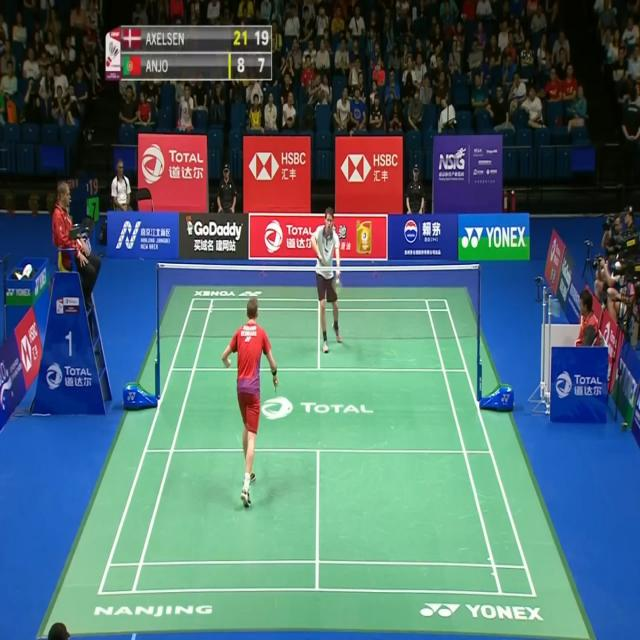Player1: (223, 294, 281, 512)
Player2: (311, 204, 345, 360)
